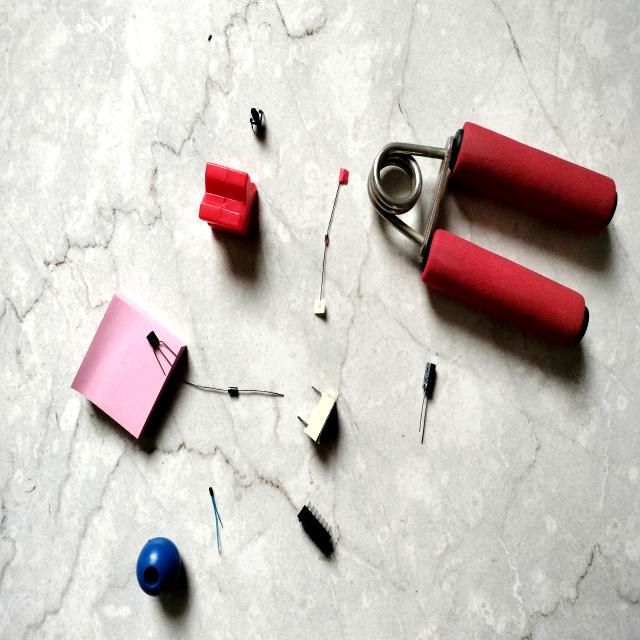capacitor: (422, 363, 436, 401)
